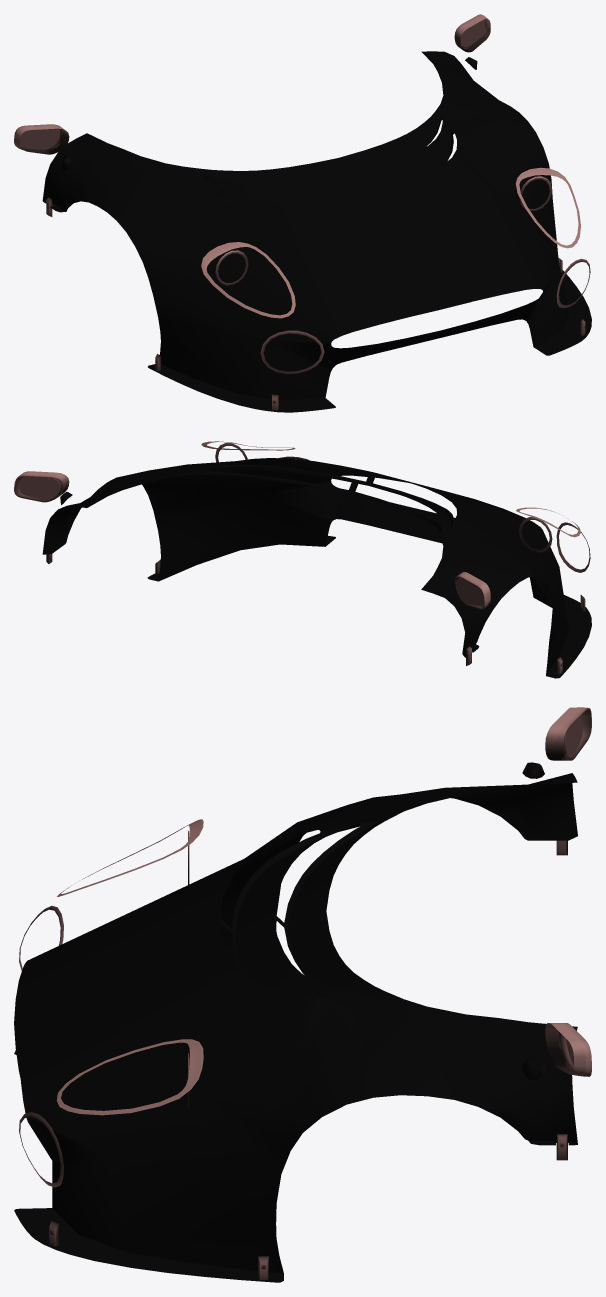
Rendered from MC_XJ220s_Clam_Trim.fbx.
3 views of the same model, one above another, from view 1: azimuth 30°, elevation 25°; view 2: azimuth 150°, elevation 25°; view 3: azimuth 270°, elevation 25° (orthographic). The views are drawn at different scales.
Parts seen in each view (by area): view 1: MC_XJ220s_Clam_Trim; view 2: MC_XJ220s_Clam_Trim; view 3: MC_XJ220s_Clam_Trim.
Part boxes in pixels (x1,y1,x2,y2): MC_XJ220s_Clam_Trim: (14,14,591,412); MC_XJ220s_Clam_Trim: (14,441,591,678); MC_XJ220s_Clam_Trim: (14,707,591,1282).
Size of the model in its own units: 222 by 77.27 by 157.
